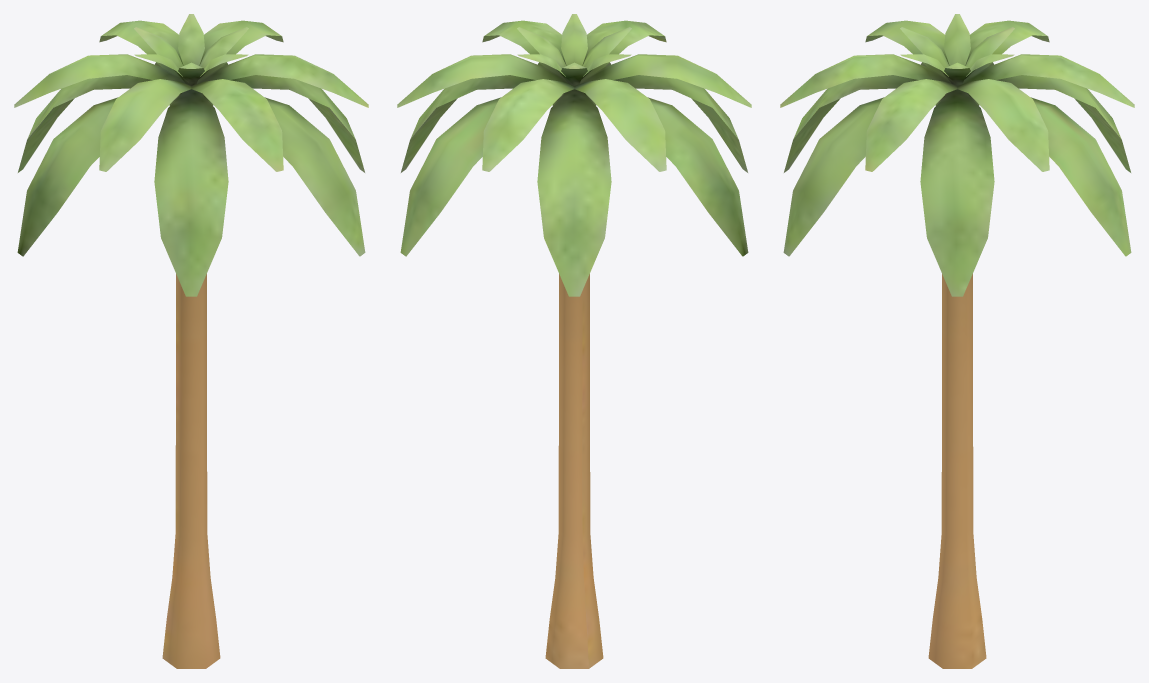
The model's file is palm.glb.
3 views of the same model, side by side, from view 1: azimuth 30°, elevation 25°; view 2: azimuth 150°, elevation 25°; view 3: azimuth 270°, elevation 25° (orthographic).
Parts seen in each view (by area): view 1: Palm; view 2: Palm; view 3: Palm.
Boxes of the visible parts, box(x1,y1,x2,y2) form: Palm: box(14, 14, 368, 668); Palm: box(397, 14, 751, 668); Palm: box(780, 14, 1134, 668).
Bounding box in the file's own units: 5.03 × 8.67 × 4.51.
Materials: 1 (1 with a texture image).
